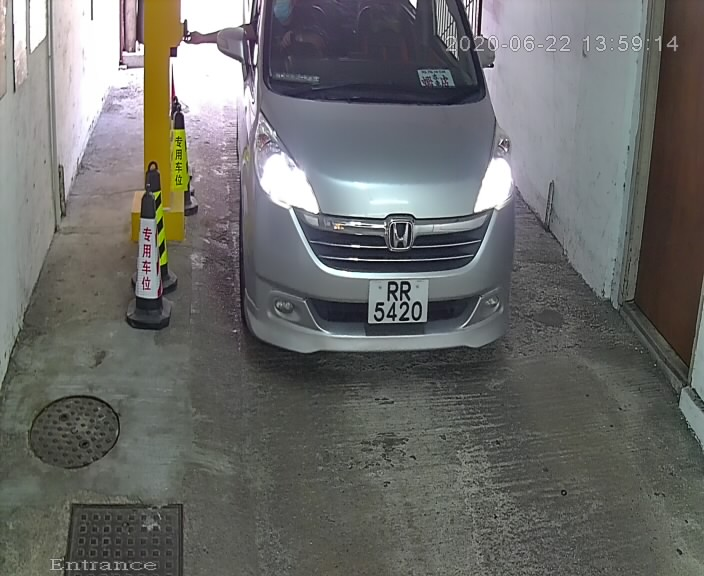privatecar: (210, 1, 531, 395)
